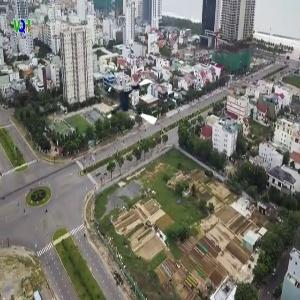drone: (106, 75, 165, 134)
